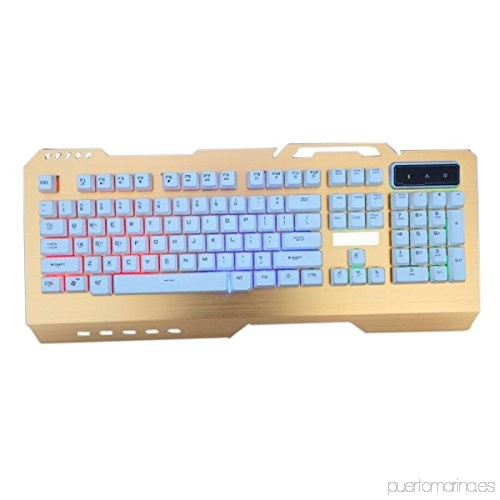Teclado: (21, 145, 482, 340)
